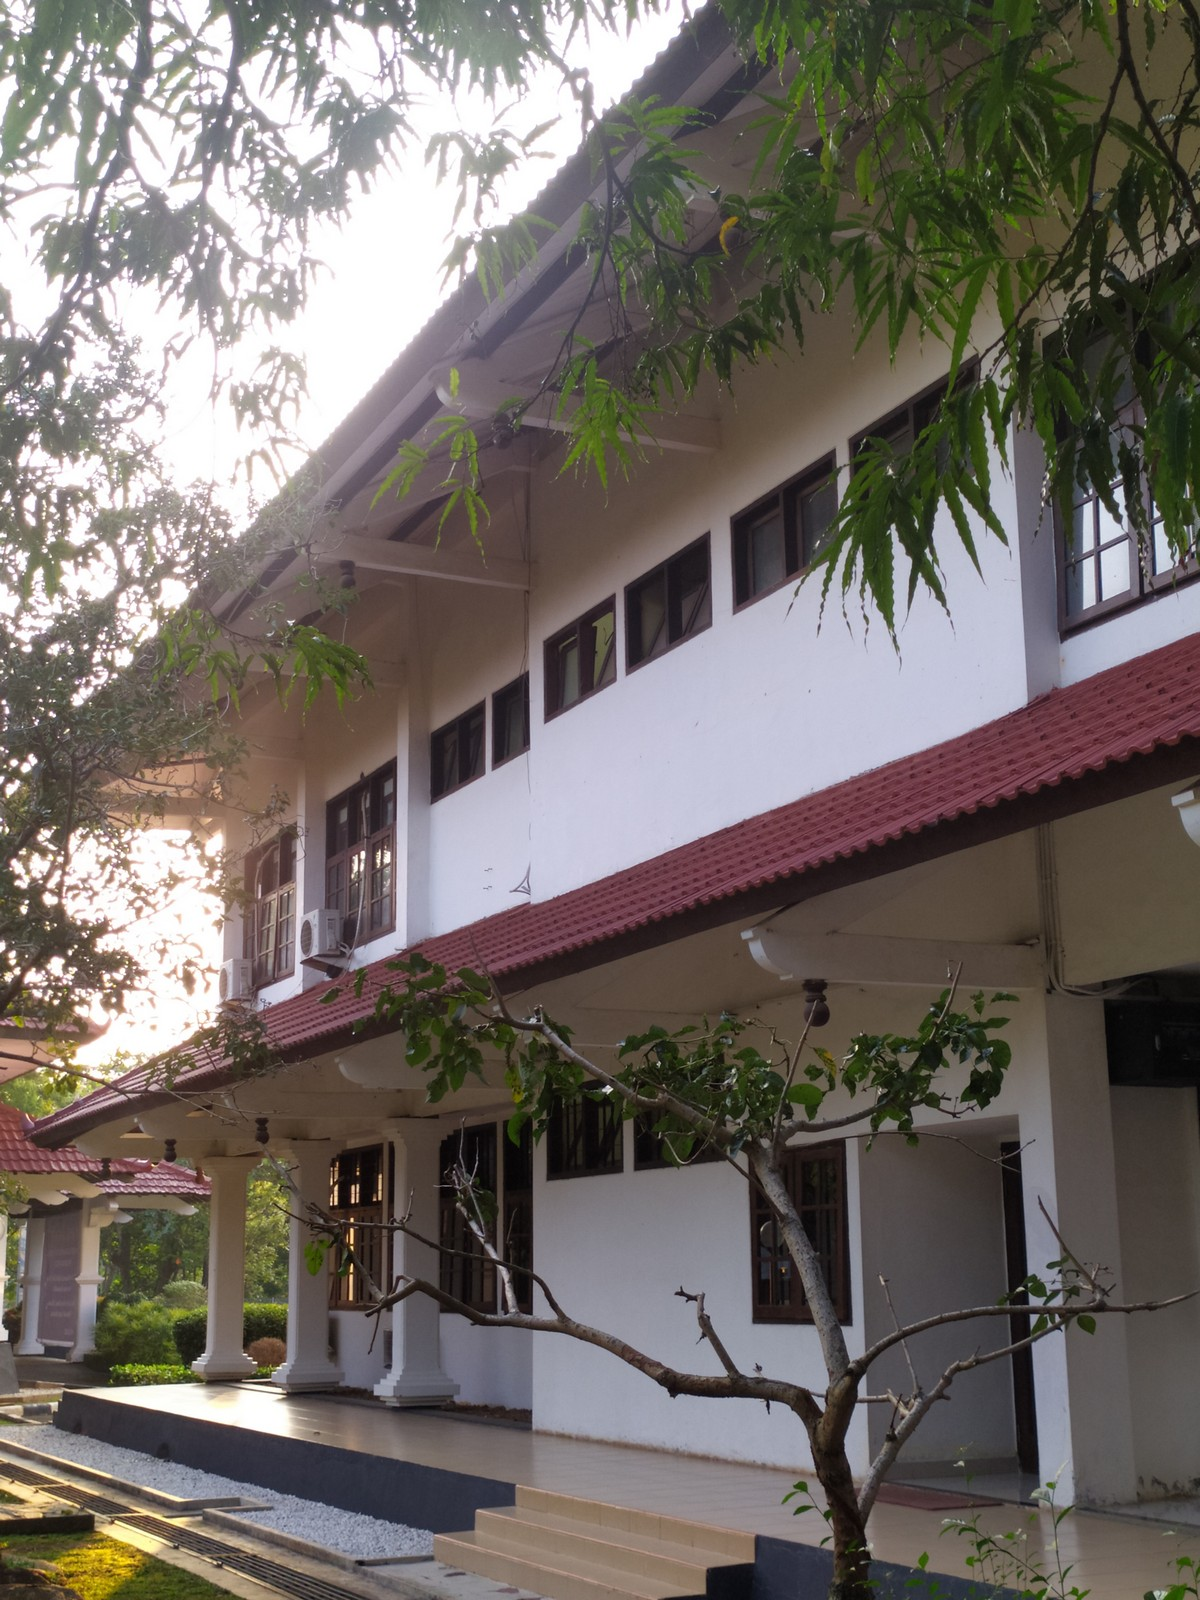concrete beam: (511, 386, 736, 467), (367, 539, 536, 593)
concrete column: (1008, 834, 1148, 1512), (379, 1138, 453, 1374), (389, 603, 437, 944), (287, 670, 334, 984), (277, 1162, 342, 1362), (200, 1163, 253, 1351)
